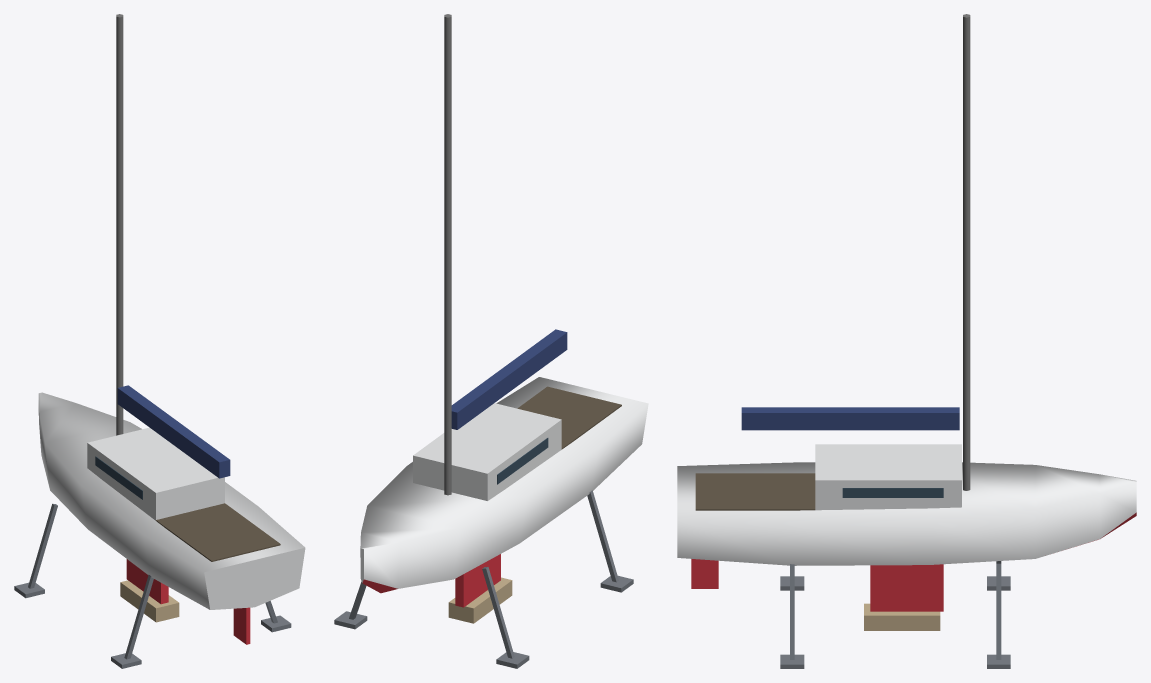
The model's file is port_cargo1.fbx.
3 views of the same model, side by side, from view 1: azimuth 30°, elevation 25°; view 2: azimuth 150°, elevation 25°; view 3: azimuth 270°, elevation 25° (orthographic). The views are drawn at different scales.
Visible parts, largest first — view 1: a1095_0_port_cargo1; view 2: a1095_0_port_cargo1; view 3: a1095_0_port_cargo1.
Part boxes in pixels (bbox=[...]): a1095_0_port_cargo1: bbox=[14, 14, 305, 668]; a1095_0_port_cargo1: bbox=[334, 14, 648, 668]; a1095_0_port_cargo1: bbox=[677, 14, 1136, 668].
Size of the model in its own units: 4.38 by 14.07 by 9.6.
